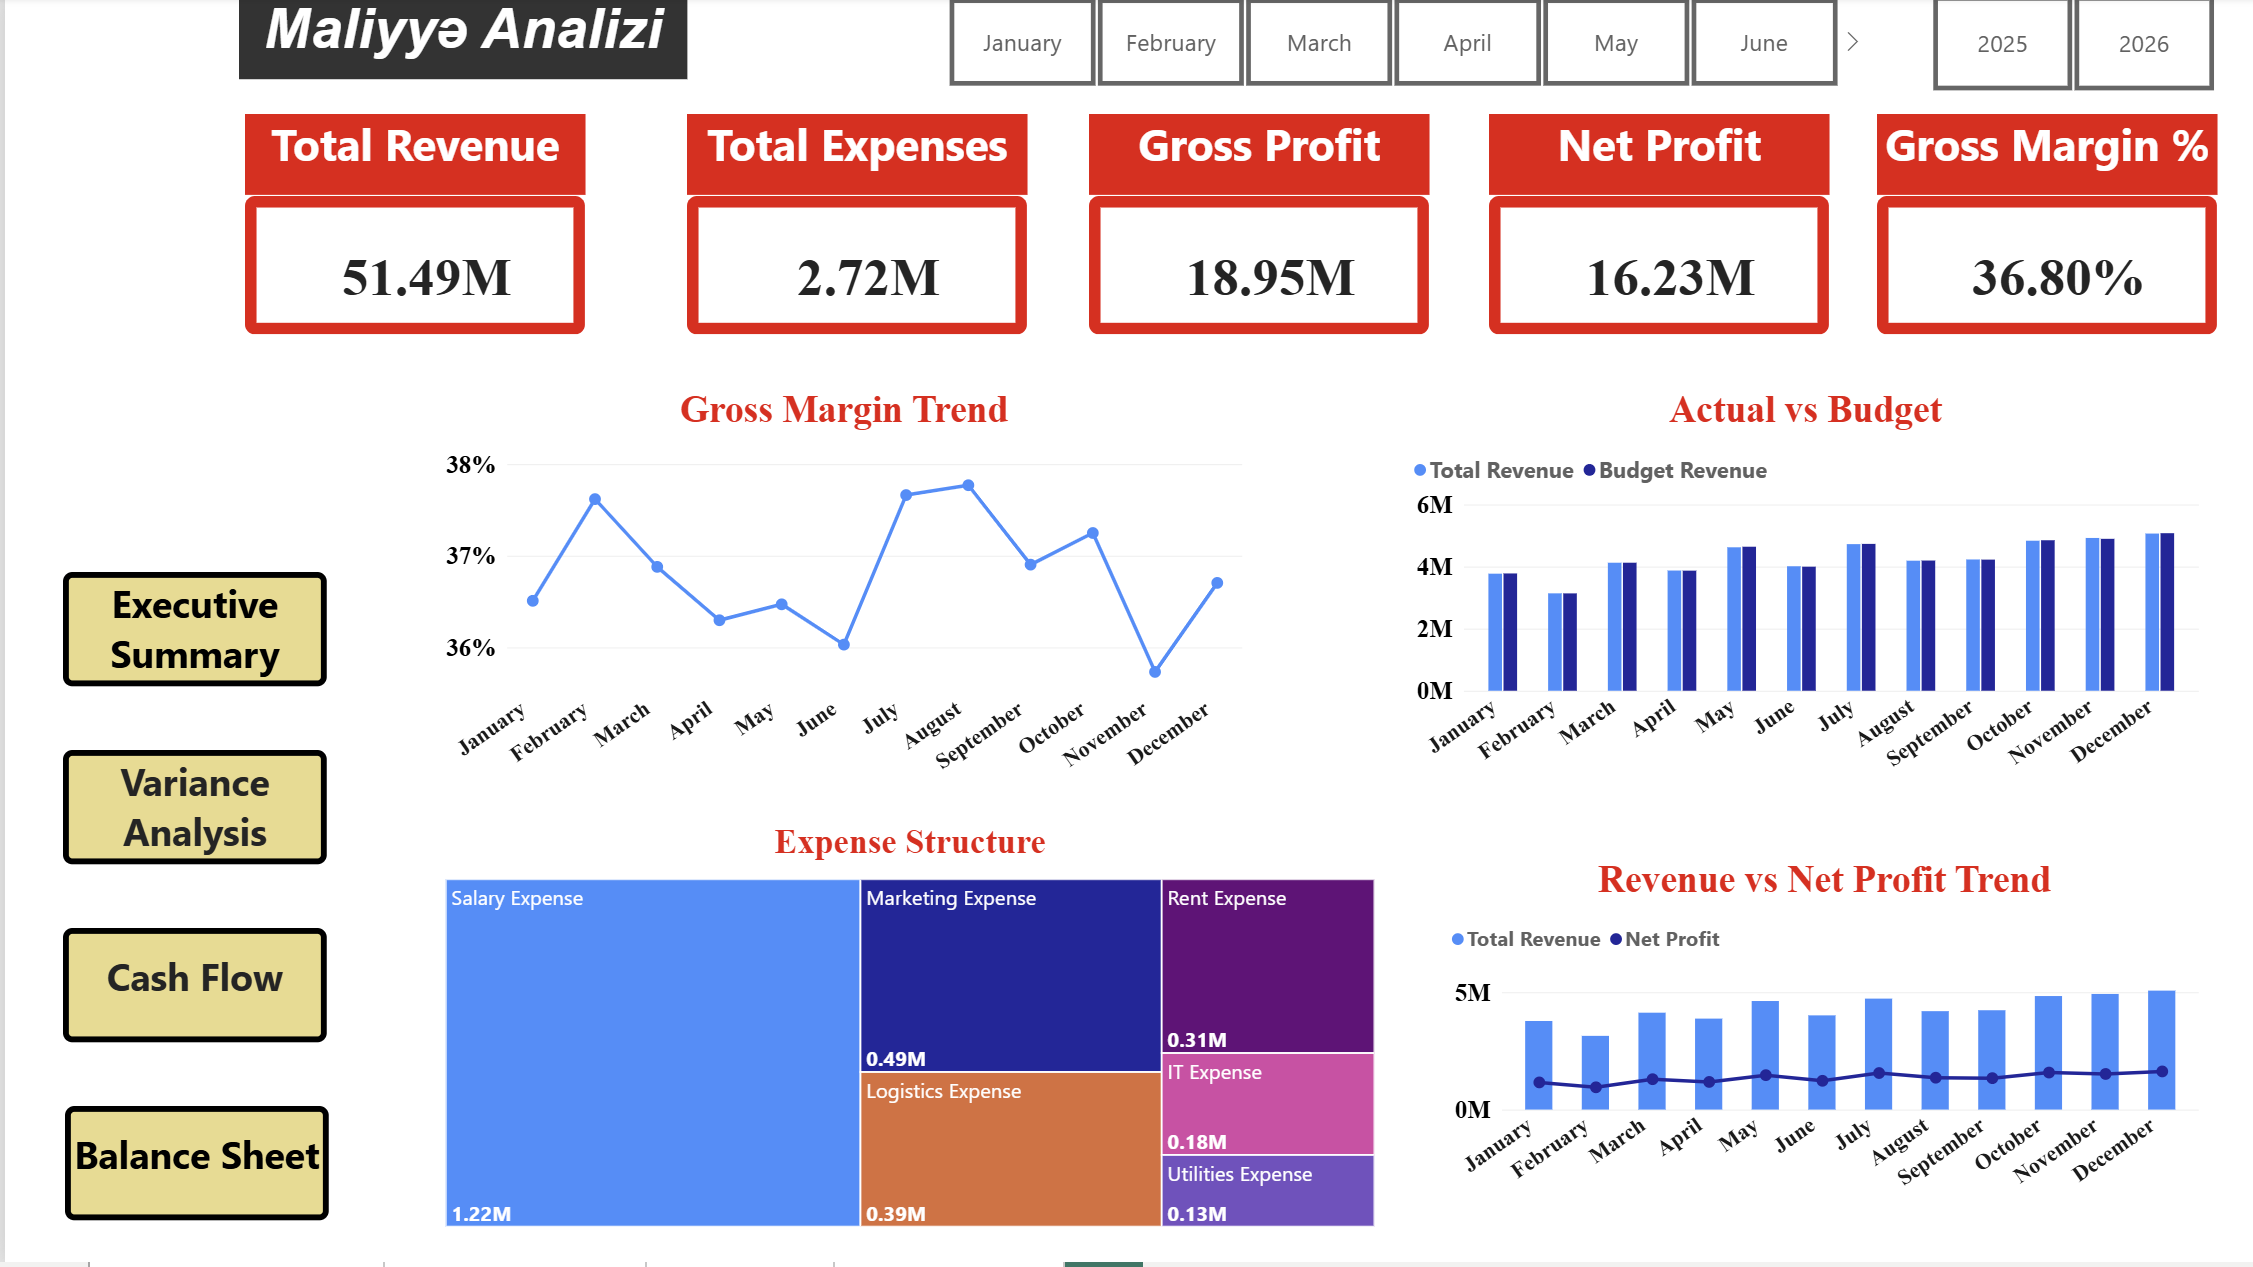

This screenshot's page, from the dashboard's own definition file:
{"tool":"powerbi","page":{"name":"Executive Summary","canvas":[1920,1080],"ordinal":0},"visuals":[{"type":"textbox","box":[198.9,0,382.5,70.8],"z":0},{"type":"slicer","fields":{"Values":["DimDate.MonthName"]},"box":[784.1,0,797.5,78.4],"z":1000},{"type":"slicer","fields":{"Values":["DimDate.Year"]},"box":[1625.5,0,277.3,80.3],"z":2000},{"type":"cardVisual","fields":{"Data":["Measures (2).Total Revenue"]},"box":[204.6,170.2,290.7,118.6],"z":3000},{"type":"cardVisual","fields":{"Data":["Measures (2).Total Expenses"]},"box":[581.4,170.2,290.7,118.6],"z":4000},{"type":"cardVisual","fields":{"Data":["Measures (2).Gross Profit"]},"box":[925.6,170.2,290.7,118.6],"z":5000},{"type":"cardVisual","fields":{"Data":["Measures (2).Net Profit"]},"box":[1266,170.2,290.7,118.6],"z":6000},{"type":"cardVisual","fields":{"Data":["Measures (2).Gross Margin %"]},"box":[1596.8,170.2,290.7,118.6],"z":7000},{"type":"textbox","box":[204.6,101.4,290.7,68.8],"z":8000},{"type":"textbox","box":[581.4,101.4,290.7,68.8],"z":9000},{"type":"textbox","box":[925.6,101.4,290.7,68.8],"z":10000},{"type":"textbox","box":[1266,101.4,290.7,68.8],"z":11000},{"type":"textbox","box":[1596.8,101.4,290.7,68.8],"z":12000},{"type":"textbox","box":[49.7,491.5,225,97.5],"z":13000},{"type":"textbox","box":[49.7,643.2,225,97.5],"z":14000},{"type":"textbox","box":[49,794.9,225,97.5],"z":15000},{"type":"textbox","box":[51.6,946.6,225,97.5],"z":16000},{"type":"actionButton","box":[49.7,491.5,225.7,99.4],"z":17000},{"type":"actionButton","box":[49.7,946.6,225.7,99.4],"z":18000},{"type":"actionButton","box":[51.6,795.5,225.7,99.4],"z":19000},{"type":"actionButton","box":[49.7,640.6,225.7,99.4],"z":20000},{"type":"lineChart","title":"Gross Margin Trend","fields":{"Category":["DimDate.MonthName"],"Y":["Measures (2).Gross Margin %"]},"box":[359.5,321.3,711.4,371],"z":21000},{"type":"treemap","title":"Expense Structure","fields":{"Group":["FactExpenses.ExpenseCategory"],"Values":["Measures (2).Total Expenses"]},"box":[359.5,690.4,824.2,374.8],"z":22000},{"type":"clusteredColumnChart","title":"Actual vs Budget","fields":{"Category":["DimDate.MonthName"],"Y":["Measures (2).Total Revenue","Sum(FactSales.BudgetRevenue)"]},"box":[1183.7,321.3,703.7,369.1],"z":23000},{"type":"lineClusteredColumnComboChart","title":"Revenue vs Net Profit Trend","fields":{"Category":["DimDate.MonthName"],"Y":["Measures (2).Total Revenue"],"Y2":["Measures (2).Net Profit"]},"box":[1216.3,721,671.2,325.1],"z":24000}]}

Visuals, with their boxes in screenshot pixels (x1, y1, x2, y2), scaled from the page's 1920x1080 canvas onto the 2253x1267 screenshot:
textbox: box=[233, 0, 682, 83]
slicer - DimDate.MonthName: box=[920, 0, 1856, 92]
slicer - DimDate.Year: box=[1907, 0, 2233, 94]
cardVisual - Measures (2).Total Revenue: box=[240, 200, 581, 339]
cardVisual - Measures (2).Total Expenses: box=[682, 200, 1023, 339]
cardVisual - Measures (2).Gross Profit: box=[1086, 200, 1427, 339]
cardVisual - Measures (2).Net Profit: box=[1486, 200, 1827, 339]
cardVisual - Measures (2).Gross Margin %: box=[1874, 200, 2215, 339]
textbox: box=[240, 119, 581, 200]
textbox: box=[682, 119, 1023, 200]
textbox: box=[1086, 119, 1427, 200]
textbox: box=[1486, 119, 1827, 200]
textbox: box=[1874, 119, 2215, 200]
textbox: box=[58, 577, 322, 691]
textbox: box=[58, 755, 322, 869]
textbox: box=[57, 933, 322, 1047]
textbox: box=[61, 1111, 325, 1225]
actionButton: box=[58, 577, 323, 693]
actionButton: box=[58, 1111, 323, 1227]
actionButton: box=[61, 933, 325, 1050]
actionButton: box=[58, 752, 323, 868]
"Gross Margin Trend" lineChart: box=[422, 377, 1257, 812]
"Expense Structure" treemap: box=[422, 810, 1389, 1250]
"Actual vs Budget" clusteredColumnChart: box=[1389, 377, 2215, 810]
"Revenue vs Net Profit Trend" lineClusteredColumnComboChart: box=[1427, 846, 2215, 1227]
